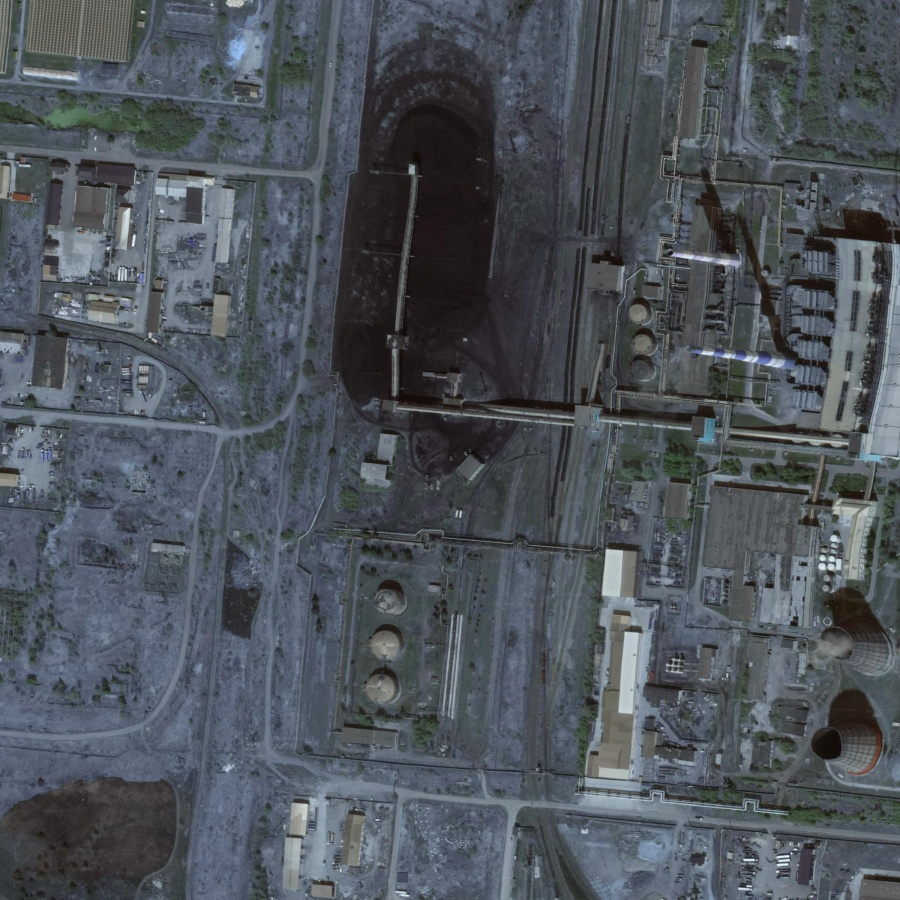PowerPlant: (323, 69, 641, 478), (647, 156, 836, 418), (325, 522, 473, 764)
